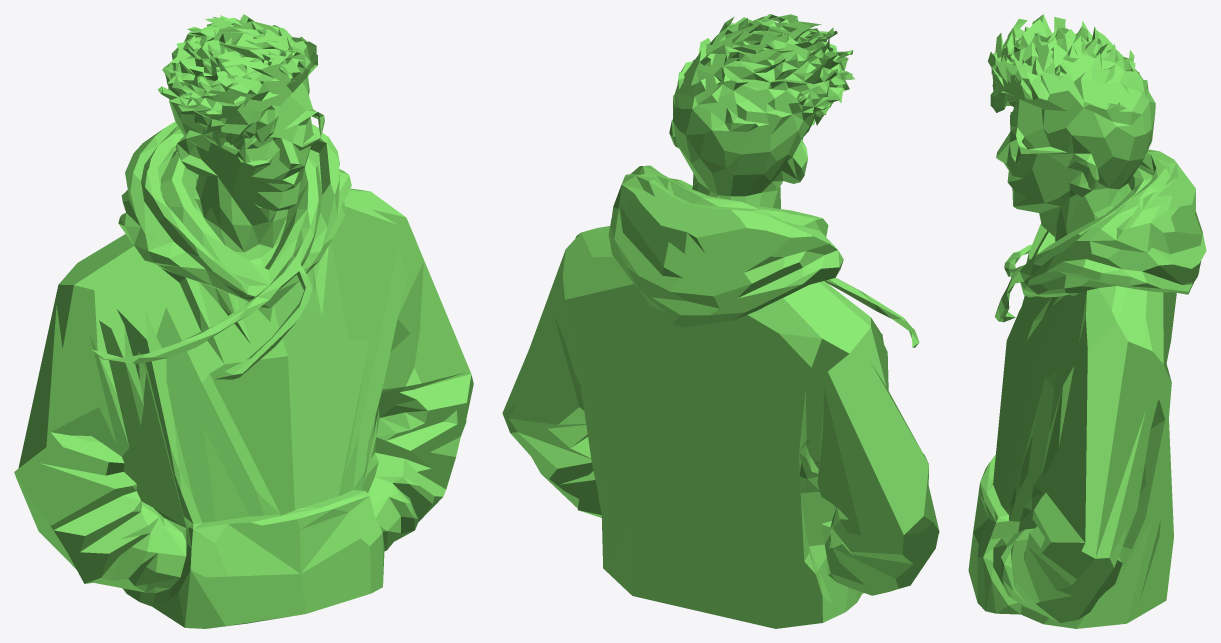
Rendered from spicez.glb.
The picture shows the model from 3 angles, left to right: view 1: azimuth 30°, elevation 25°; view 2: azimuth 150°, elevation 25°; view 3: azimuth 270°, elevation 25°; orthographic projection. The views are drawn at different scales.
Visible parts, largest first — view 1: white_mesh (2); view 2: white_mesh (2); view 3: white_mesh (2).
Boxes of the visible parts, left/top/right/bottom form: white_mesh (2): left=14, top=14, right=473, bottom=628; white_mesh (2): left=502, top=14, right=939, bottom=628; white_mesh (2): left=968, top=14, right=1206, bottom=628.
Size of the model in its own units: 1.6 by 1.95 by 0.7933.
